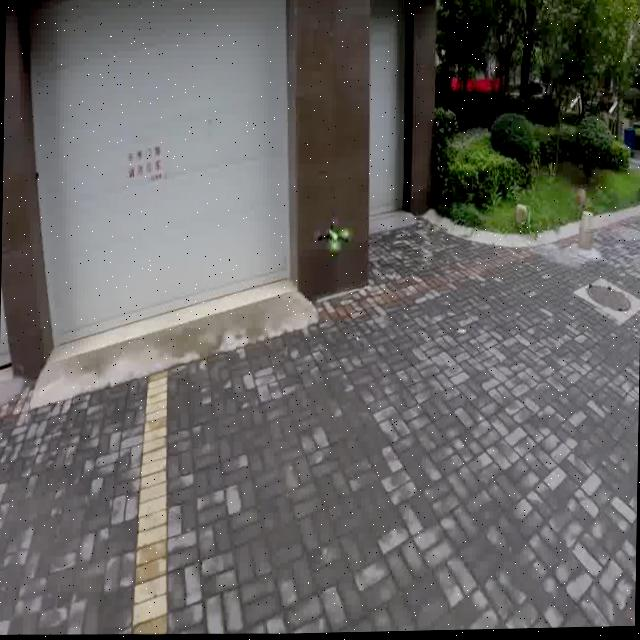drone: (298, 198, 380, 280)
